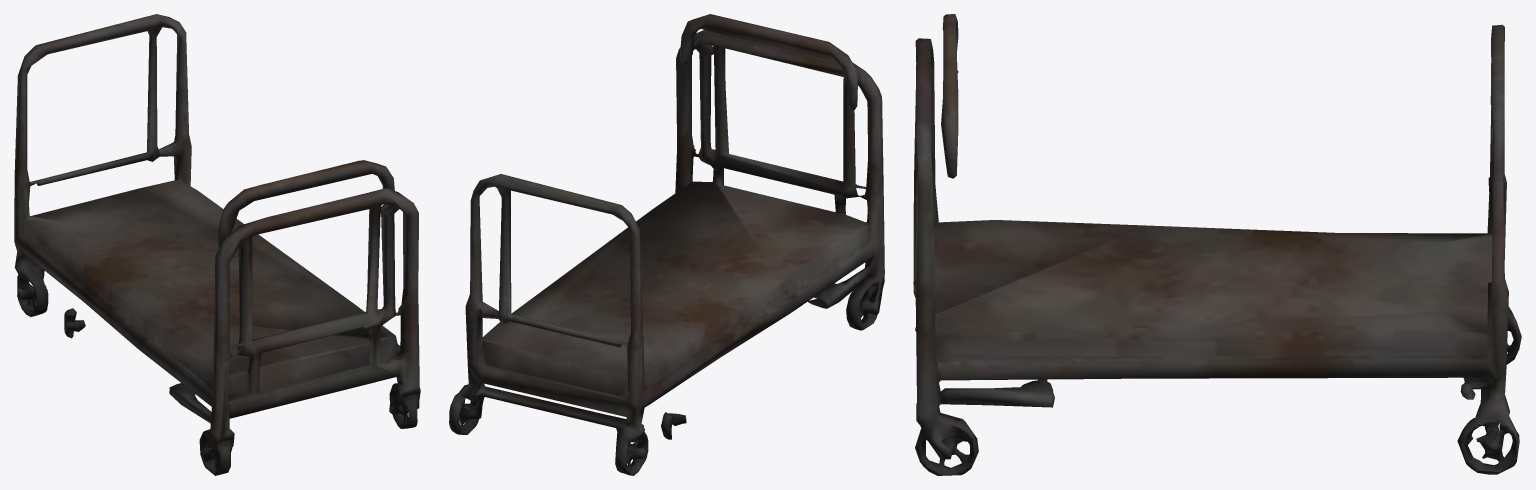
File: old-iron-asylum-bed-v002.glb
3 renders of one model, left to right at view 1: azimuth 30°, elevation 25°; view 2: azimuth 150°, elevation 25°; view 3: azimuth 270°, elevation 25°, orthographic. The views are drawn at different scales.
Parts seen in each view (by area): view 1: old-iron-asylum-bed; view 2: old-iron-asylum-bed; view 3: old-iron-asylum-bed.
Boxes of the visible parts, x1,y1,x2,y2 form: old-iron-asylum-bed: (14,14,420,475); old-iron-asylum-bed: (449,14,884,475); old-iron-asylum-bed: (913,14,1521,475).
Size of the model in its own units: 0.9707 by 1.2 by 1.82.
Materials: 1 (1 with a texture image).
